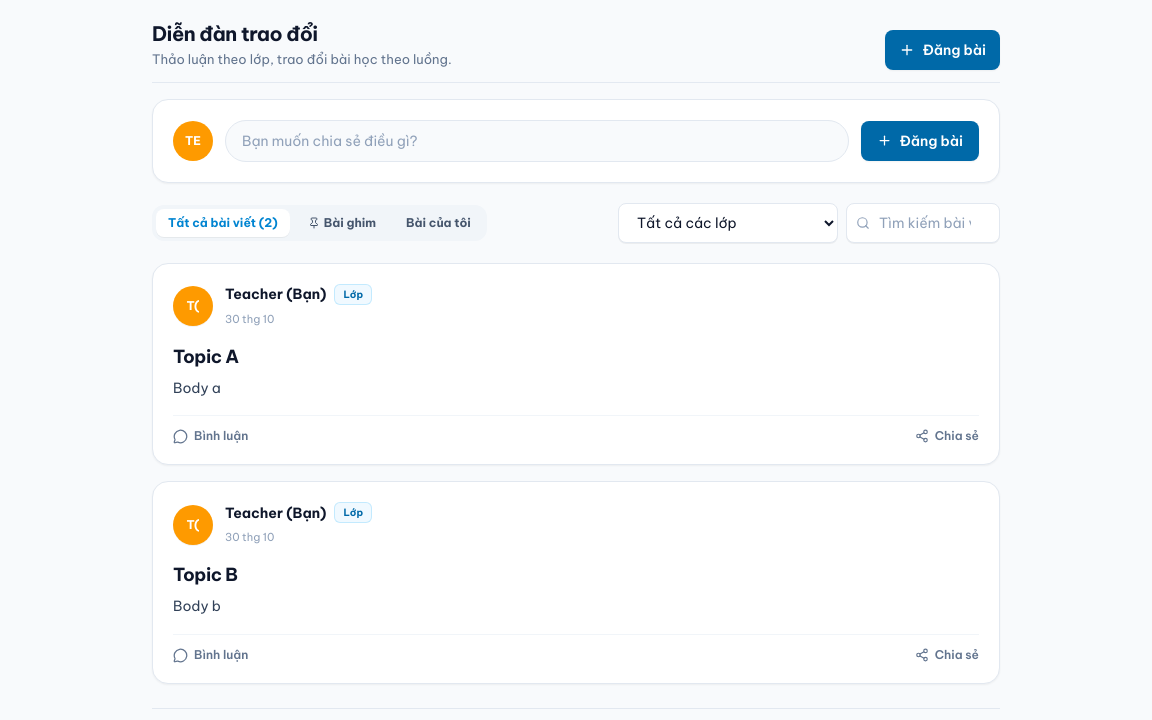
Test case: ForumPage topic request lifecycle › ignores a late response from a previous topic
Click the heading "Topic A" at (206, 356), box 173,344 -> 239,368
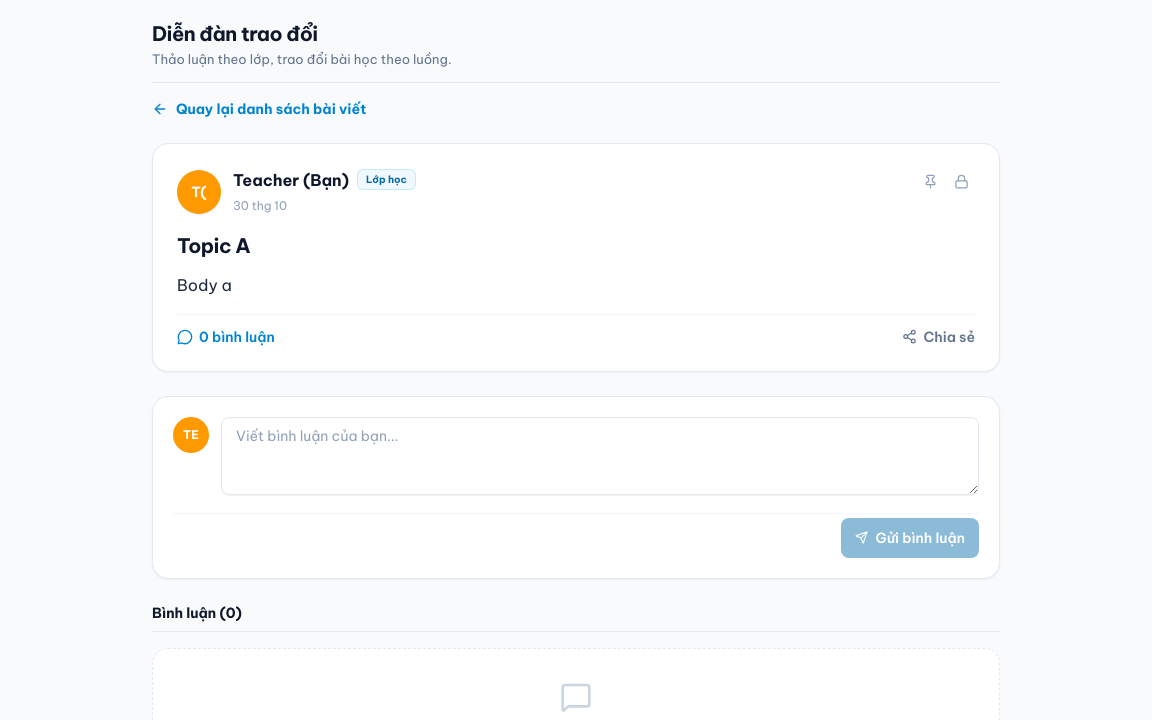
Click the button "Quay lại danh sách bài viết" at (259, 108), box 152,98 -> 366,118
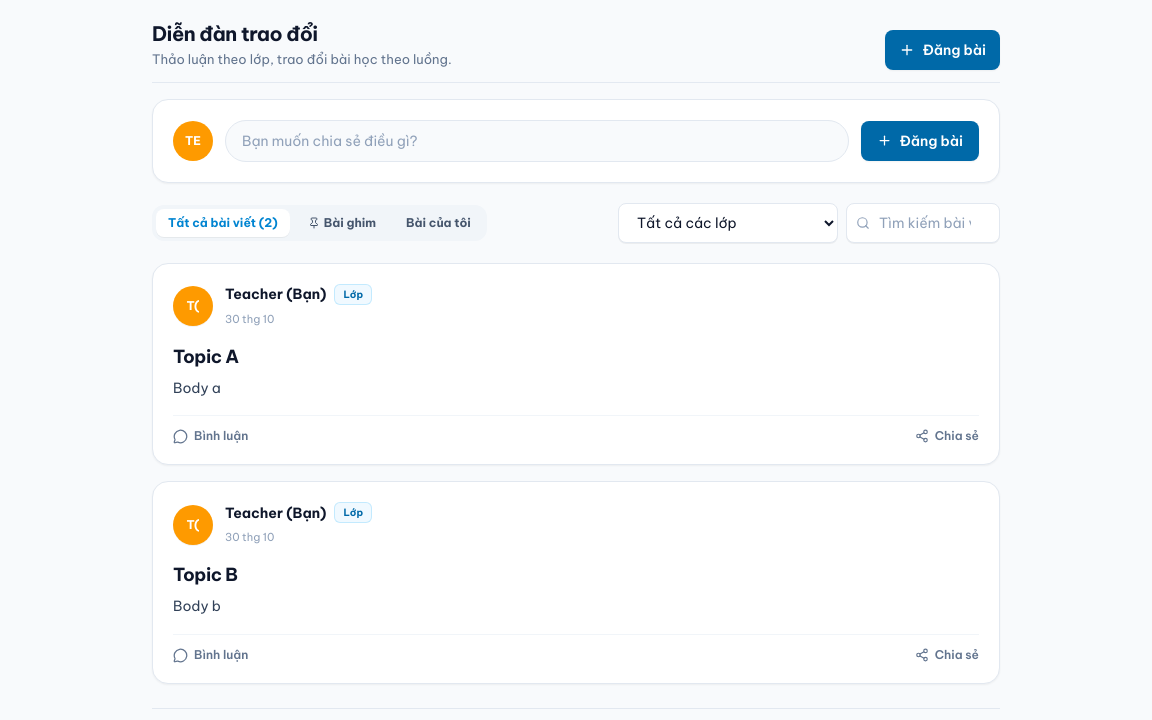
Click the heading "Topic B" at (205, 575), box 173,563 -> 238,586
(page scrolled)
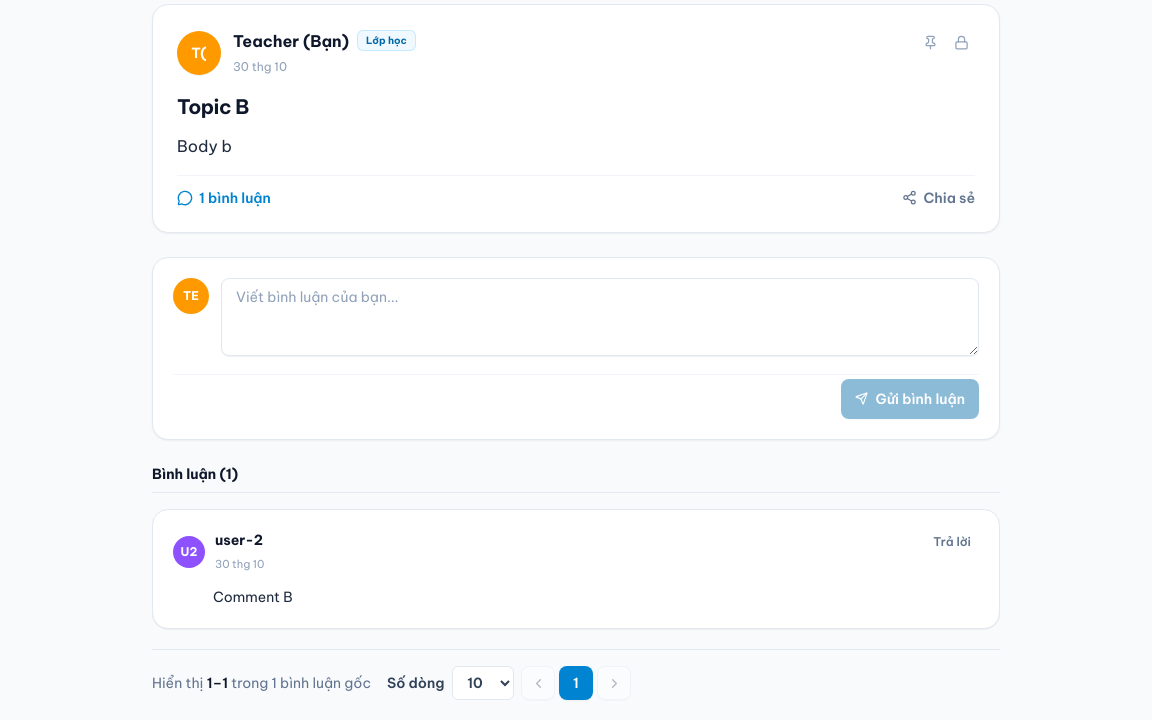
Expected: the text "Comment B" is shown, 213,588 -> 293,606
